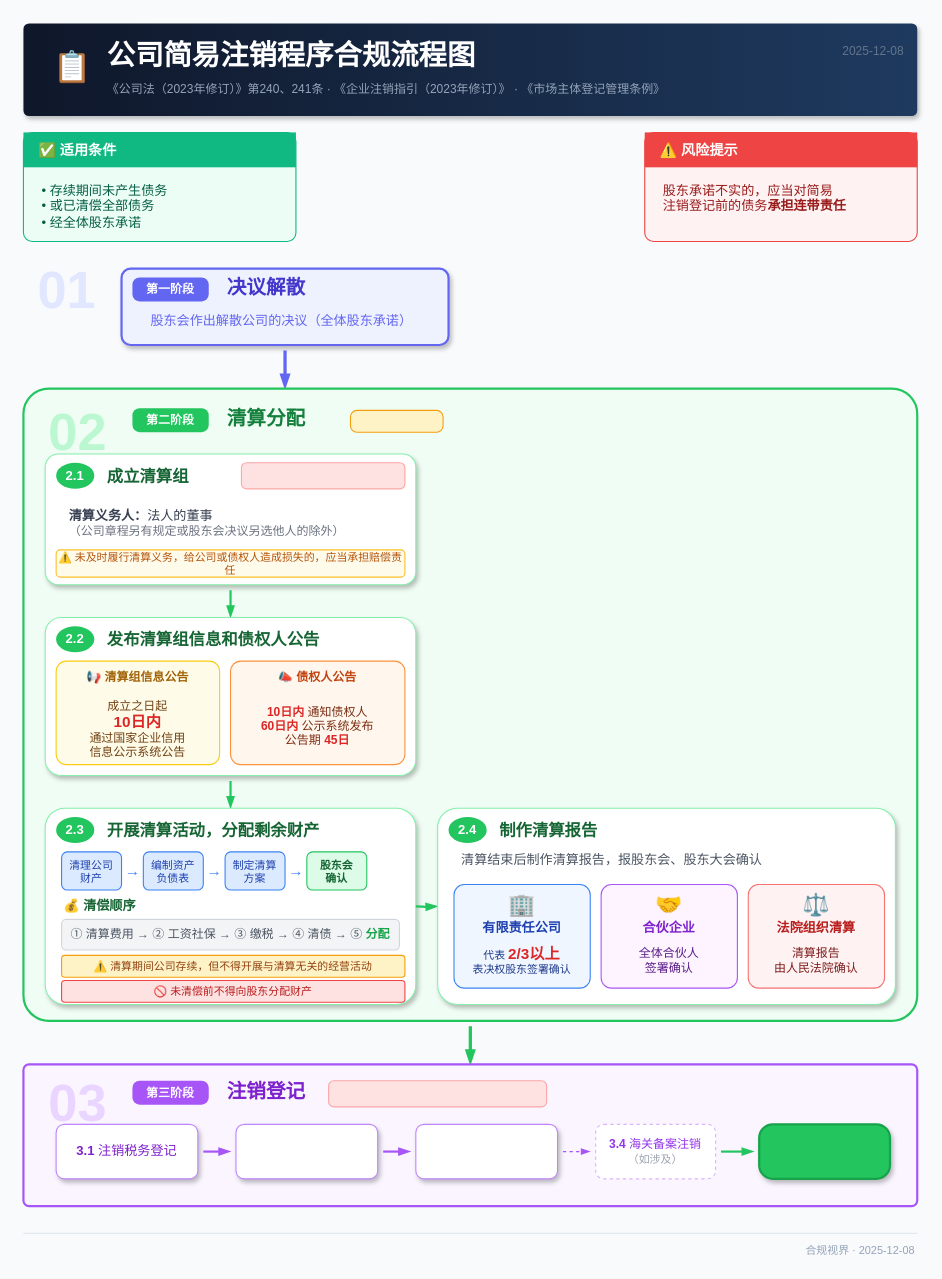
This 942x1279 diagram has some shape labels left out. Here are the shapes that lost their labels. From the top down, the centre of each, then its label:
At (396,420): "法定前置程序".
At (322,475): "⏱️ 解散事由出现之日起 15日内".
At (437,1093): "⏱️ 清算结束之日起 30日内 申请".
At (307,1152): "3.2 注销企业登记".
At (487,1152): "3.3 注销社保登记".
At (825,1152): "✓ 注销完成".
